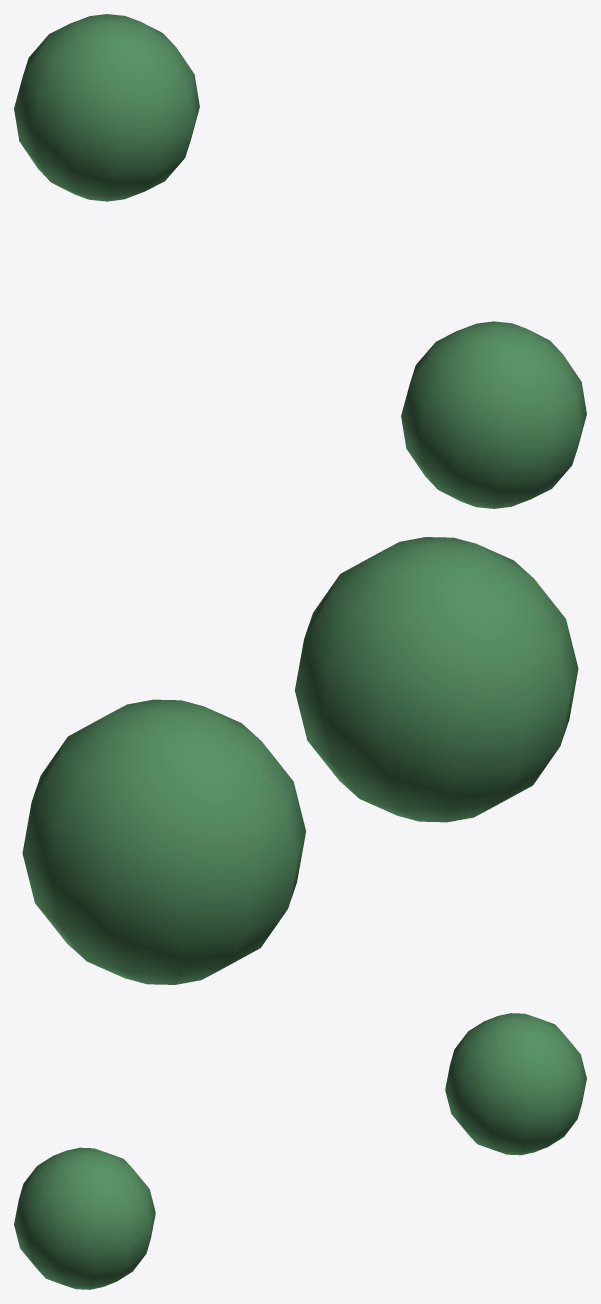
3 renders of one model, top to bottom at view 1: azimuth 30°, elevation 25°; view 2: azimuth 150°, elevation 25°; view 3: azimuth 270°, elevation 25°, orthographic. The views are drawn at different scales.
Parts seen in each view (by area): view 1: 右侧腘深淋巴结; view 2: 右侧腘深淋巴结; view 3: 右侧腘深淋巴结.
Boxes of the visible parts, x1=… form: 右侧腘深淋巴结: x1=14, y1=14, x2=586, y2=508; 右侧腘深淋巴结: x1=22, y1=537, x2=578, y2=984; 右侧腘深淋巴结: x1=14, y1=1013, x2=586, y2=1289.
Bounding box in the file's own units: 0.00625 × 0.00666 × 0.0153.
